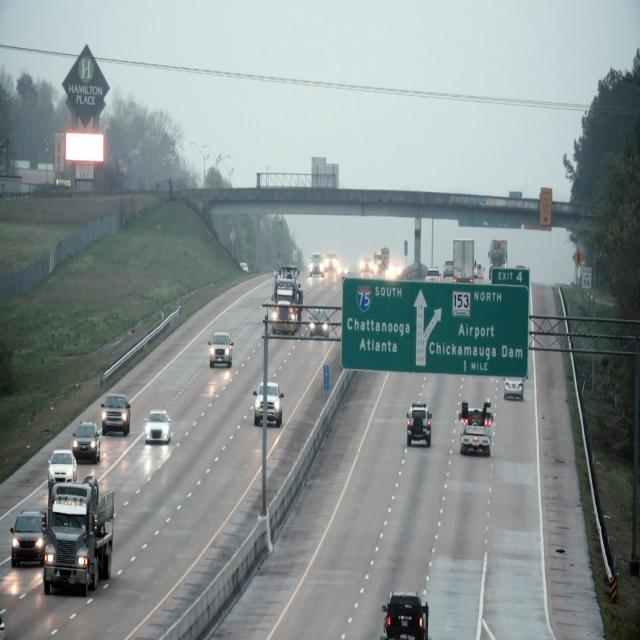Car: (46, 483, 116, 597), (268, 268, 303, 336), (456, 398, 493, 459), (385, 591, 430, 640), (12, 508, 47, 570), (252, 384, 285, 431), (73, 413, 102, 464), (407, 398, 434, 449), (48, 445, 78, 490), (105, 387, 131, 435), (145, 407, 172, 444), (208, 331, 235, 368), (309, 305, 331, 341)
